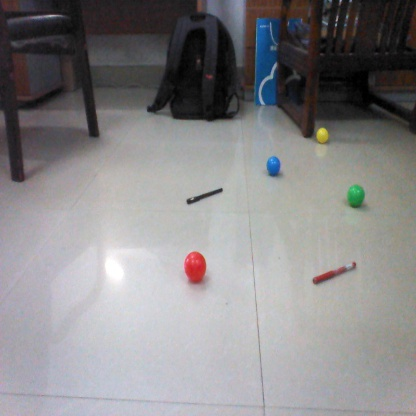ball: (181, 250, 210, 284), (345, 183, 370, 207), (265, 156, 284, 174), (315, 127, 331, 146)
pen: (310, 261, 356, 282), (186, 186, 224, 204)
